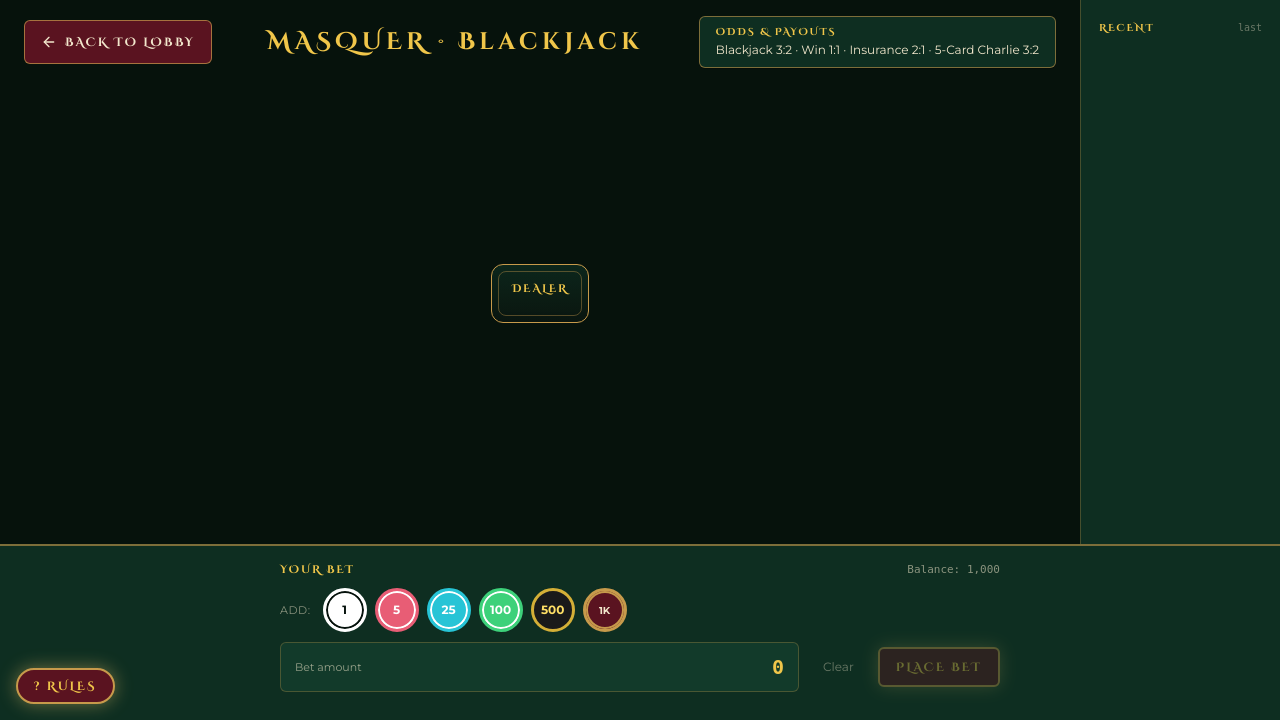
BlackjackPage › insurance Modal opens when dealer shows an Ace
Click the button named "Add 25 chips to bet". click: (449, 610)
box: [427, 588, 471, 632]
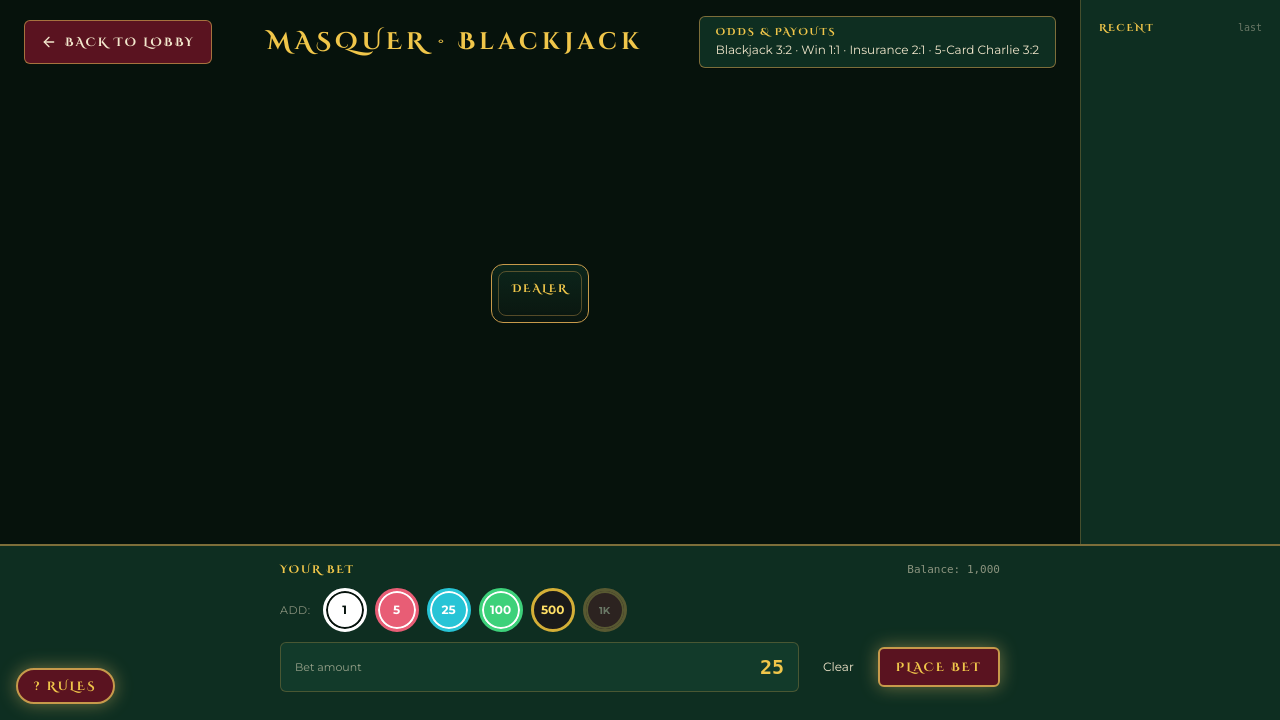
Click the button "PLACE BET". click: (939, 667)
box: [878, 647, 1000, 687]
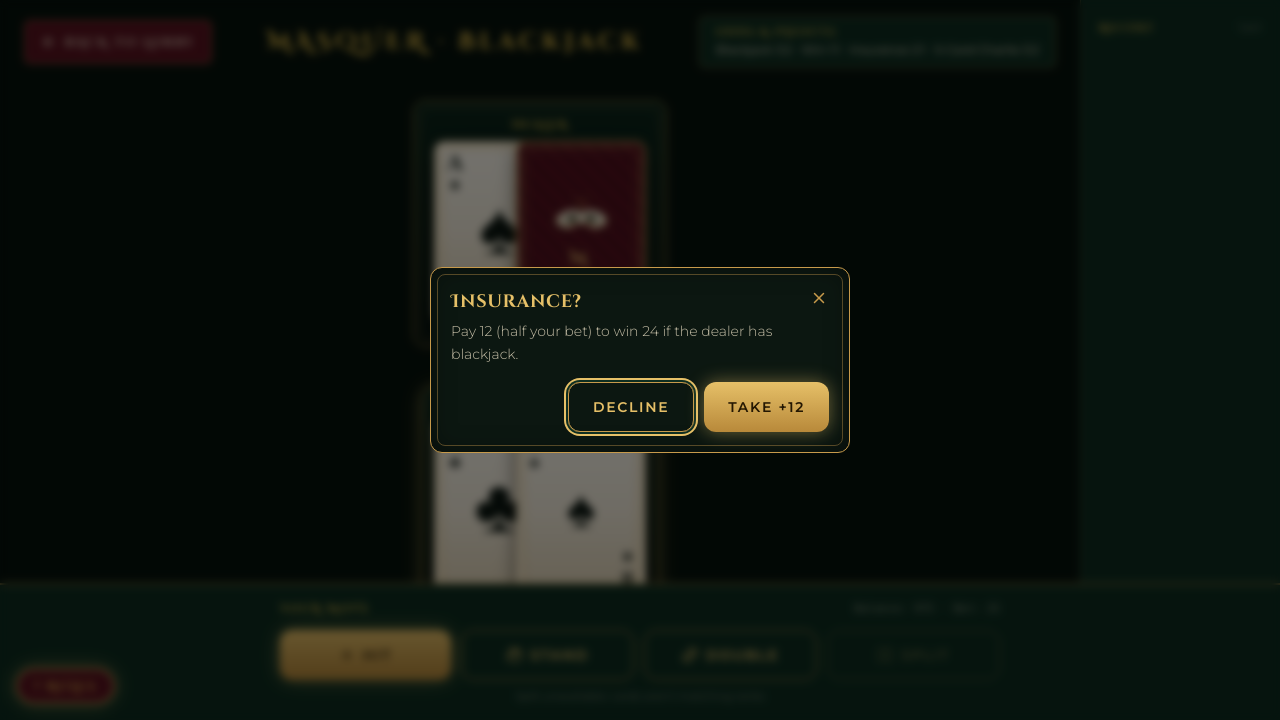
Expected: the heading "Insurance?" is shown, [451, 289, 582, 314]
